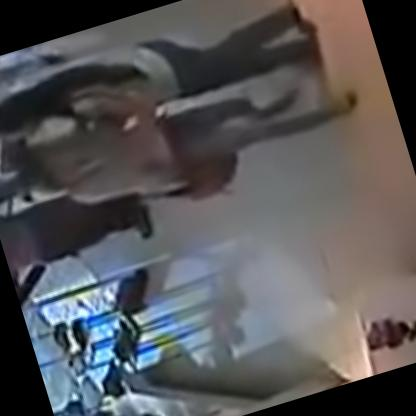Human Body: (0, 51, 379, 254), (0, 0, 319, 170)
